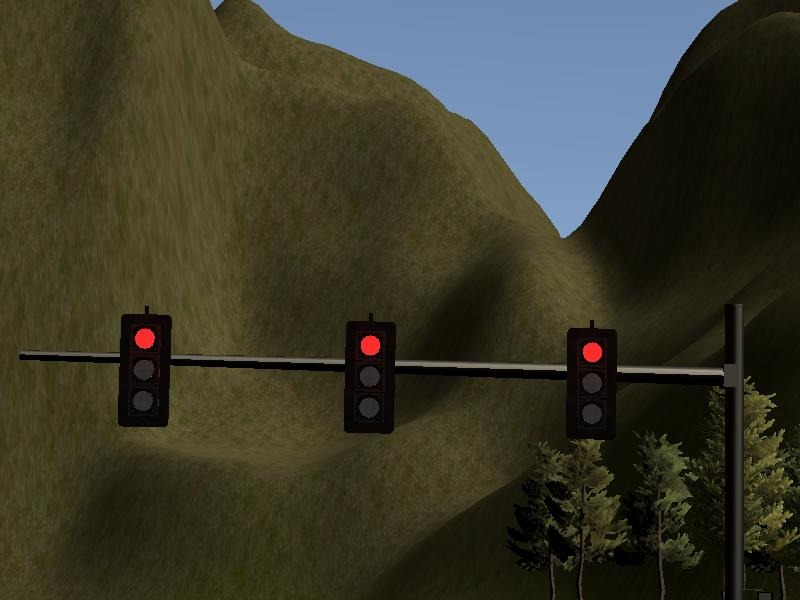red: (119, 313, 171, 427), (565, 327, 617, 441), (343, 321, 395, 435)
